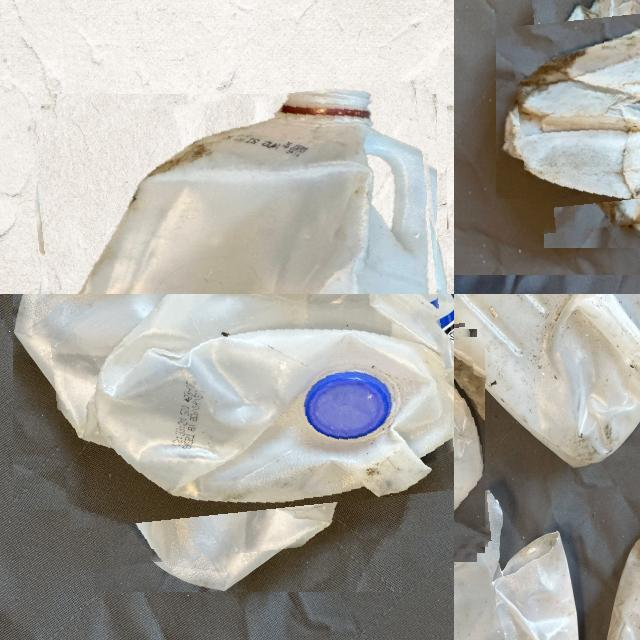milk-jug: (43, 294, 452, 560), (36, 89, 452, 294), (454, 294, 640, 467), (513, 0, 640, 229), (454, 521, 575, 640)
